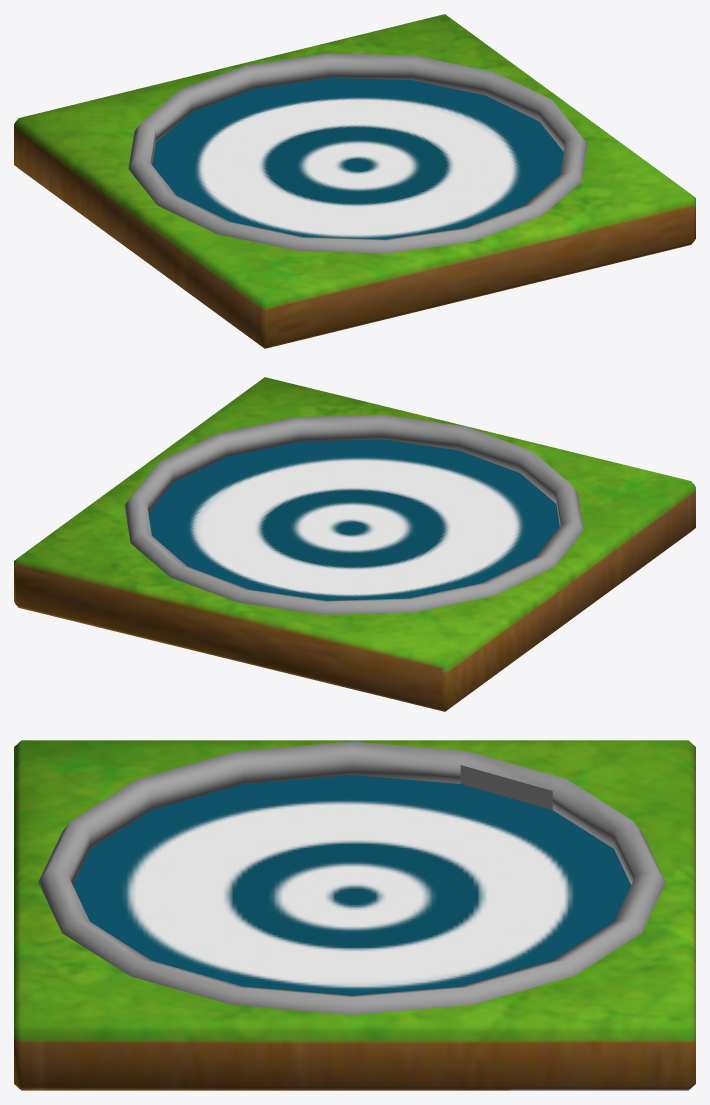
File: Trampoline.fbx
3 views of the same model, one above another, from view 1: azimuth 30°, elevation 25°; view 2: azimuth 150°, elevation 25°; view 3: azimuth 270°, elevation 25° (orthographic). The views are drawn at different scales.
Parts seen in each view (by area): view 1: Trampoline; view 2: Trampoline; view 3: Trampoline.
Boxes of the visible parts, <box> form: Trampoline: <box>14,14,695,348</box>; Trampoline: <box>14,377,695,711</box>; Trampoline: <box>14,740,695,1090</box>.
Bounding box in the file's own units: 356 × 356 × 50.45.
